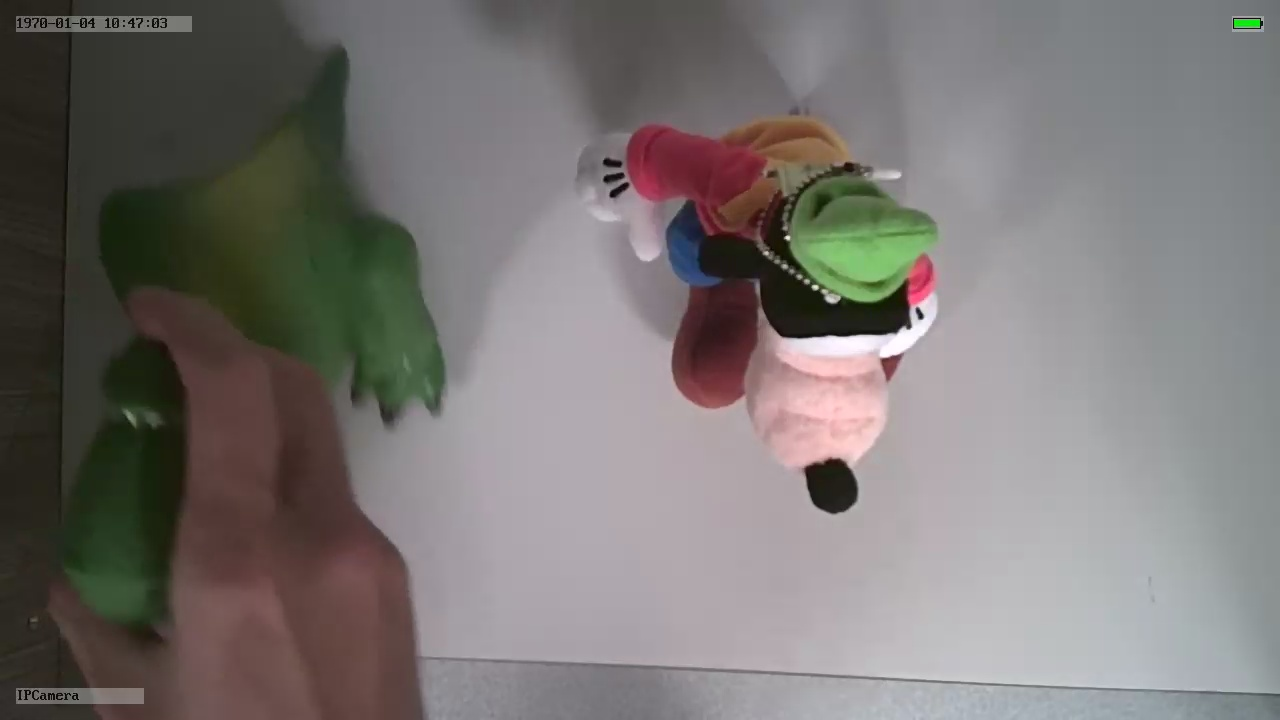goofy: (578, 115, 944, 523)
